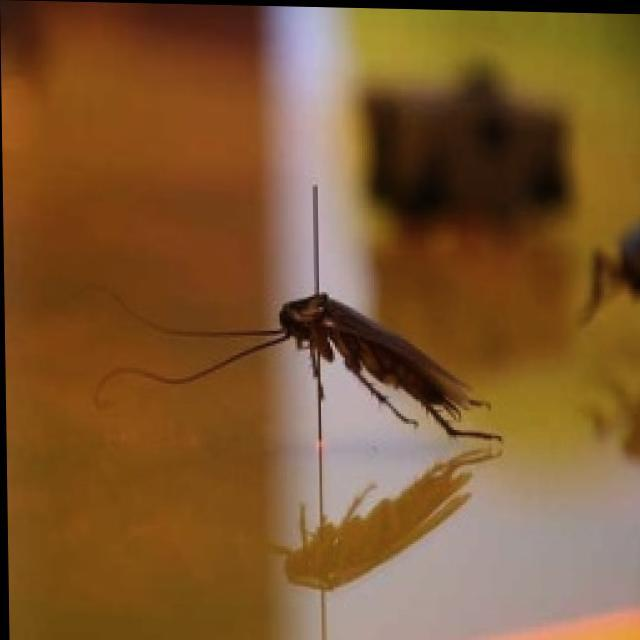cockroach: (277, 290, 496, 438)
